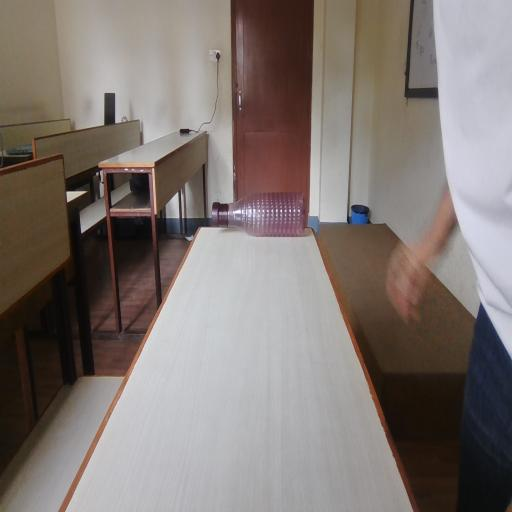Bottle: (199, 177, 320, 252)
